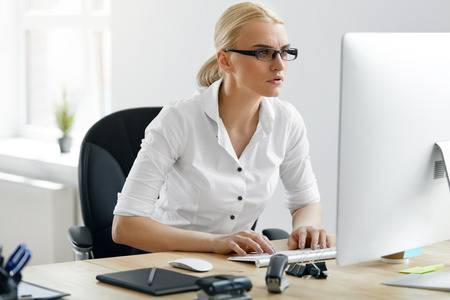F_shirt: (112, 78, 322, 247)
